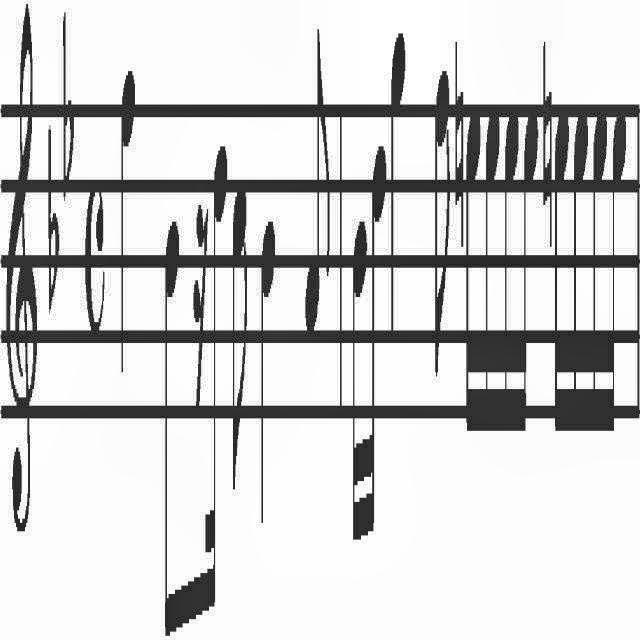Bass-clef: (6, 0, 38, 538)
Bemol: (48, 124, 60, 320), (62, 14, 74, 206)
Eighth-note: (304, 23, 332, 339), (163, 212, 181, 640), (231, 178, 249, 498), (434, 64, 452, 380)
Quarter-note: (389, 32, 407, 348), (120, 60, 136, 376), (260, 213, 276, 529)
Sixteenth-note: (207, 138, 229, 626), (368, 136, 388, 554), (608, 111, 628, 447), (570, 110, 590, 443), (520, 110, 540, 440), (501, 109, 519, 444), (482, 109, 500, 442), (589, 110, 607, 442), (554, 104, 570, 443), (351, 218, 367, 552), (466, 99, 480, 444)
